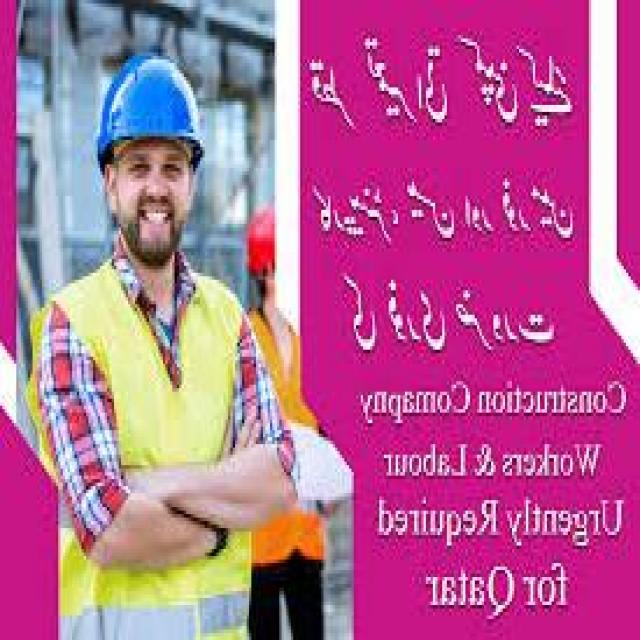Reflective-Jacket: (28, 266, 251, 629)
Safety-Helmet: (89, 45, 207, 161)
